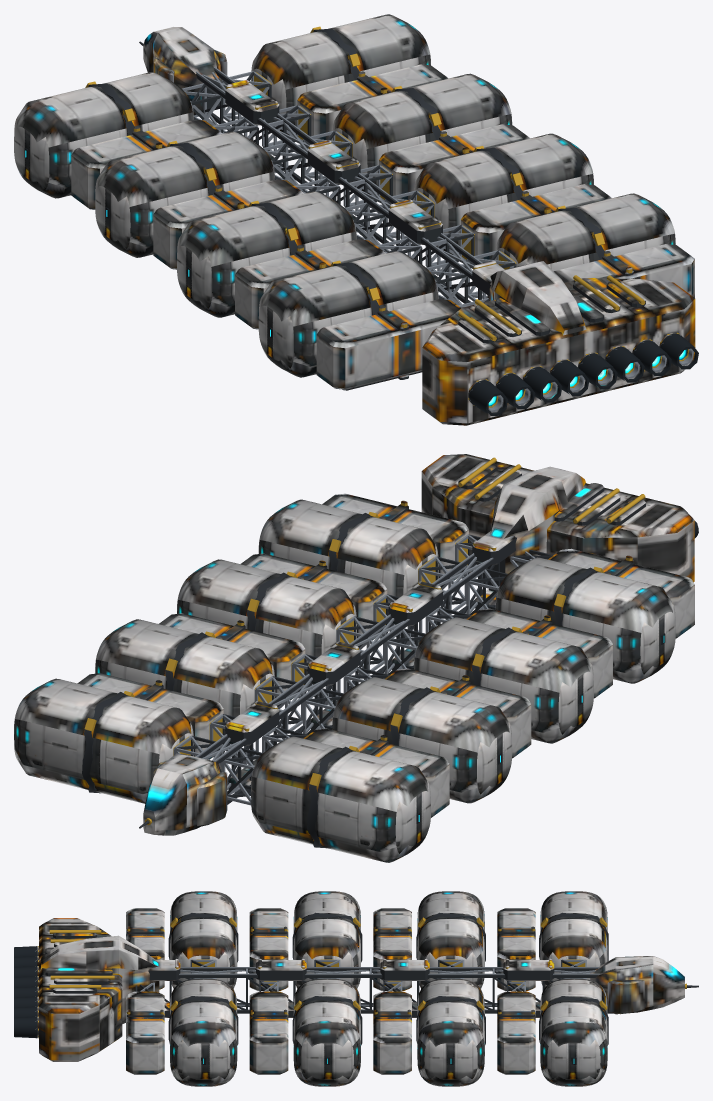
File: bulk-freighter-lod2.glb
3 renders of one model, top to bottom at view 1: azimuth 30°, elevation 25°; view 2: azimuth 150°, elevation 25°; view 3: azimuth 270°, elevation 25°, orthographic. The views are drawn at different scales.
Visible parts, largest first — view 1: Static / Reference artwork | titanium, brass, panels and can, Static / Structural frames | gunmetal, Static / Machined titanium edges, Static / Structural rails | dark alloy, Static / Warm brass collars, Static / Ventral armor | dedicated bottom-view reference; view 2: Static / Reference artwork | titanium, brass, panels and can, Static / Structural frames | gunmetal, Static / Machined titanium edges, Static / Ventral armor | dedicated bottom-view reference, Static / Warm brass collars; view 3: Static / Reference artwork | titanium, brass, panels and can, Static / Structural frames | gunmetal, Static / Ventral armor | dedicated bottom-view reference, Static / Machined titanium edges, Static / Structural rails | dark alloy, Static / Warm brass collars.
Boxes of the visible parts, x1,y1,x2,y2 form: Static / Reference artwork | titanium, brass, panels and can: [14, 14, 695, 423]; Static / Structural frames | gunmetal: [88, 28, 645, 389]; Static / Machined titanium edges: [182, 67, 694, 411]; Static / Structural rails | dark alloy: [24, 148, 698, 415]; Static / Warm brass collars: [85, 26, 689, 407]; Static / Ventral armor | dedicated bottom-view reference: [17, 106, 683, 425]; Static / Reference artwork | titanium, brass, panels and can: [14, 454, 694, 853]; Static / Structural frames | gunmetal: [82, 467, 645, 848]; Static / Machined titanium edges: [173, 534, 535, 805]; Static / Ventral armor | dedicated bottom-view reference: [15, 554, 687, 862]; Static / Warm brass collars: [84, 457, 645, 825]; Static / Reference artwork | titanium, brass, panels and can: [37, 891, 684, 1079]; Static / Structural frames | gunmetal: [45, 912, 698, 1045]; Static / Ventral armor | dedicated bottom-view reference: [37, 978, 674, 1086]; Static / Machined titanium edges: [35, 946, 599, 1035]; Static / Structural rails | dark alloy: [14, 946, 576, 1064]; Static / Warm brass collars: [38, 917, 686, 1038].
Bounding box in the file's own units: 9.81 × 2.49 × 19.51.
Materials: 7 (2 with a texture image).
